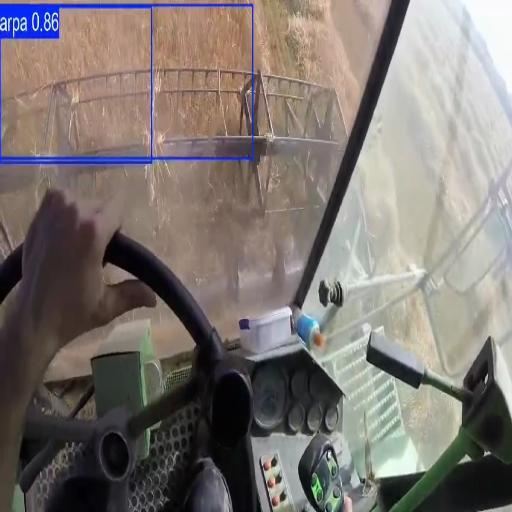arpa: (1, 10, 150, 155), (254, 0, 360, 123), (153, 7, 251, 92), (79, 73, 150, 152), (66, 75, 136, 105), (155, 94, 181, 134), (195, 94, 222, 127)
